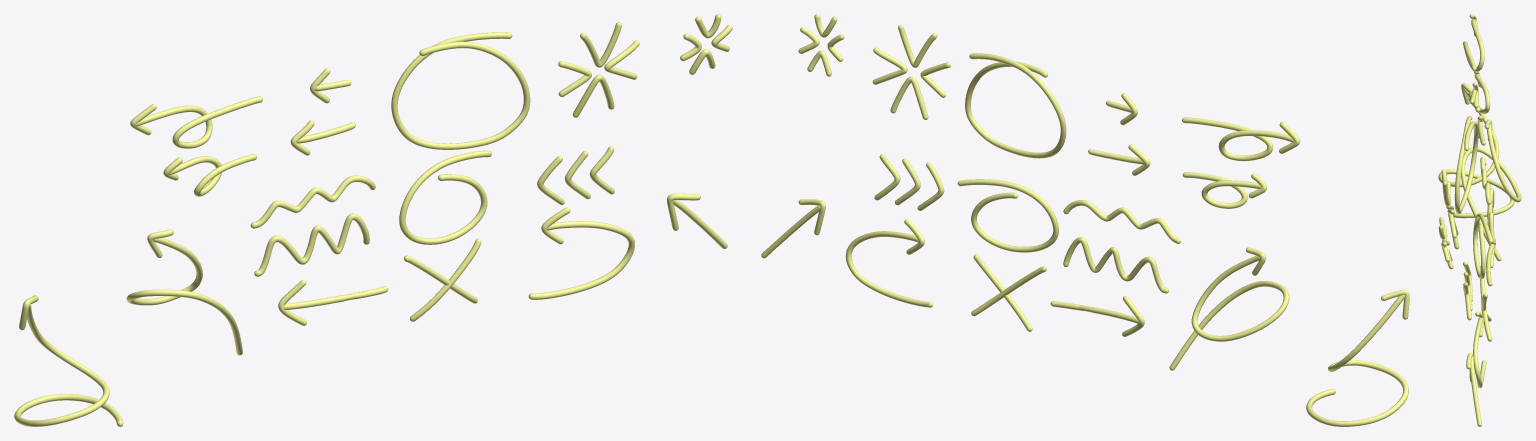
The model's file is Marks.fbx.
3 views of the same model, side by side, from view 1: azimuth 30°, elevation 25°; view 2: azimuth 150°, elevation 25°; view 3: azimuth 270°, elevation 25° (orthographic). The views are drawn at different scales.
Visible parts, largest first — view 1: s.0065, s.0051, s.0010, s.0047, s.0074, s.0016, s.0057, s.0058, s.0077, s.0013, s.0011; view 2: s.0047, s.0065, s.0051, s.0010, s.0074, s.0016, s.0057, s.0077, s.0058; view 3: s.0047, s.0065, s.0051, s.0010, s.0057, s.0074, s.0045, s.0077, s.0016, s.0058, s.0012, s.0013 (+13 smaller).
Boxes of the visible parts, x1=… form: s.0065: x1=391, y1=32, x2=530, y2=149; s.0051: x1=14, y1=304, x2=123, y2=426; s.0010: x1=399, y1=150, x2=491, y2=244; s.0047: x1=126, y1=238, x2=242, y2=355; s.0074: x1=135, y1=96, x2=262, y2=148; s.0016: x1=254, y1=213, x2=369, y2=276; s.0057: x1=528, y1=221, x2=634, y2=299; s.0058: x1=250, y1=175, x2=375, y2=228; s.0077: x1=169, y1=154, x2=256, y2=196; s.0013: x1=283, y1=286, x2=388, y2=309; s.0011: x1=410, y1=238, x2=481, y2=321; s.0047: x1=1169, y1=255, x2=1289, y2=370; s.0065: x1=965, y1=53, x2=1066, y2=158; s.0051: x1=1306, y1=294, x2=1408, y2=426; s.0010: x1=957, y1=179, x2=1058, y2=252; s.0074: x1=1182, y1=117, x2=1294, y2=161; s.0016: x1=1063, y1=237, x2=1168, y2=293; s.0057: x1=845, y1=231, x2=932, y2=307; s.0077: x1=1182, y1=172, x2=1261, y2=208; s.0058: x1=1063, y1=200, x2=1181, y2=243; s.0047: x1=1461, y1=123, x2=1521, y2=261; s.0065: x1=1454, y1=116, x2=1478, y2=213; s.0051: x1=1438, y1=87, x2=1514, y2=218; s.0010: x1=1473, y1=213, x2=1492, y2=279; s.0057: x1=1473, y1=317, x2=1486, y2=388; s.0074: x1=1463, y1=19, x2=1484, y2=71; s.0045: x1=1469, y1=356, x2=1481, y2=426; s.0077: x1=1467, y1=74, x2=1490, y2=113; s.0016: x1=1487, y1=188, x2=1495, y2=244; s.0058: x1=1480, y1=157, x2=1491, y2=204; s.0012: x1=1480, y1=266, x2=1492, y2=341; s.0013: x1=1486, y1=243, x2=1494, y2=286.
Bounding box in the file's own units: 83.29 × 33.66 × 11.58.
